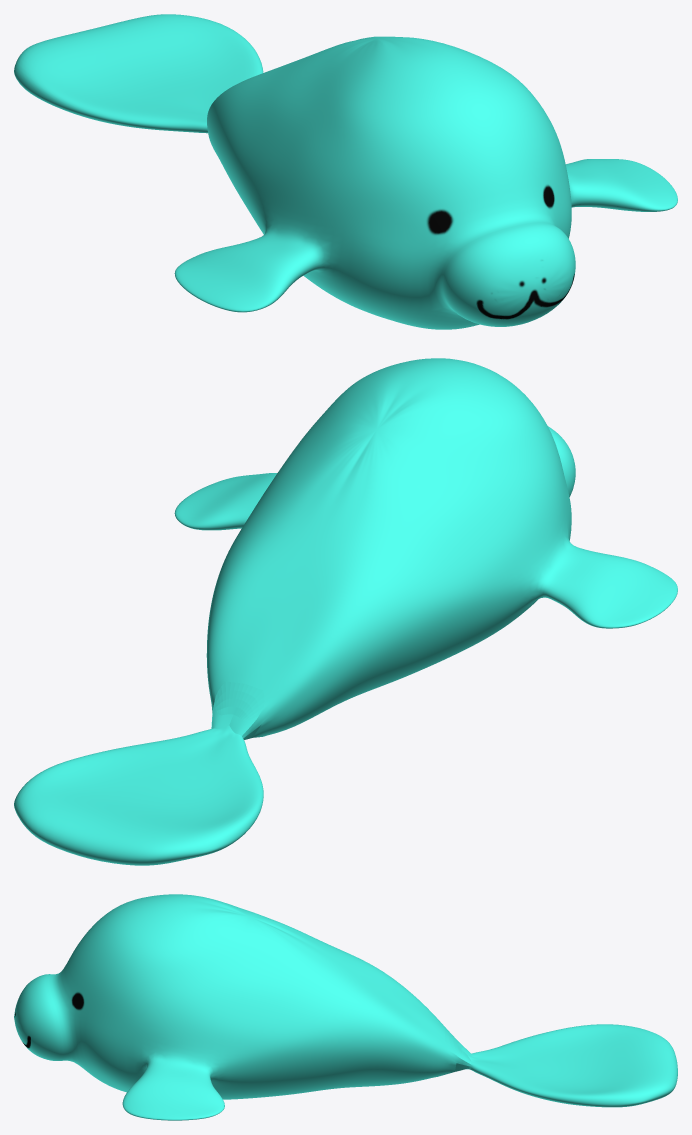
The model's file is mana.glb.
The picture shows the model from 3 angles, top to bottom: view 1: azimuth 30°, elevation 25°; view 2: azimuth 150°, elevation 25°; view 3: azimuth 270°, elevation 25°; orthographic projection. The views are drawn at different scales.
Visible parts, largest first — view 1: node_id3; view 2: node_id3; view 3: node_id3.
Part boxes in pixels (x1=…): node_id3: x1=14, y1=14, x2=677, y2=329; node_id3: x1=14, y1=358, x2=677, y2=865; node_id3: x1=14, y1=894, x2=677, y2=1120.
Size of the model in its own units: 0.512 by 0.2598 by 0.8423.
Materials: 1 (1 with a texture image).
